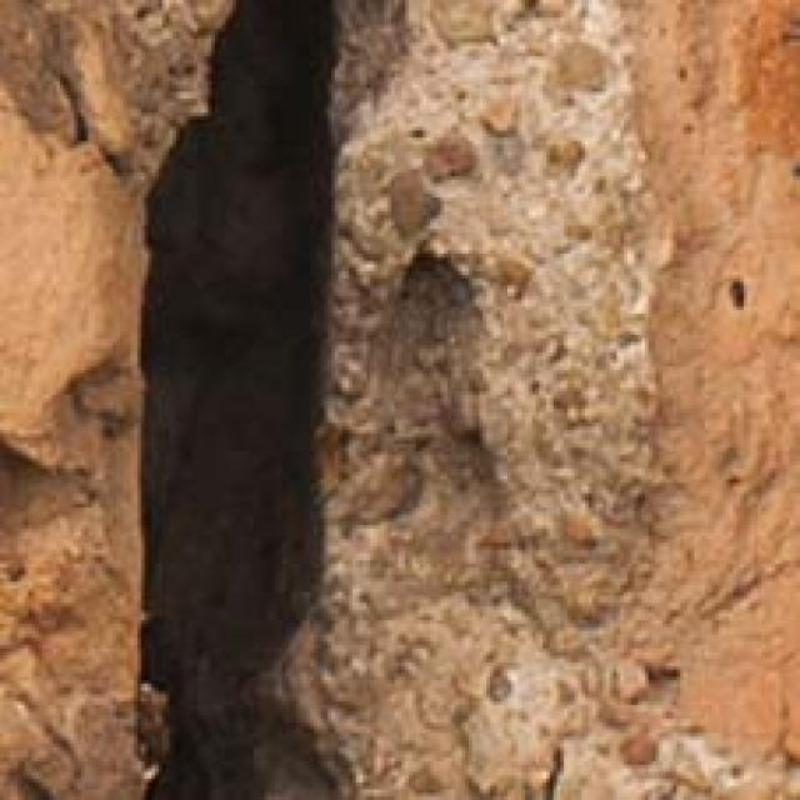pothole: (142, 0, 336, 799)
